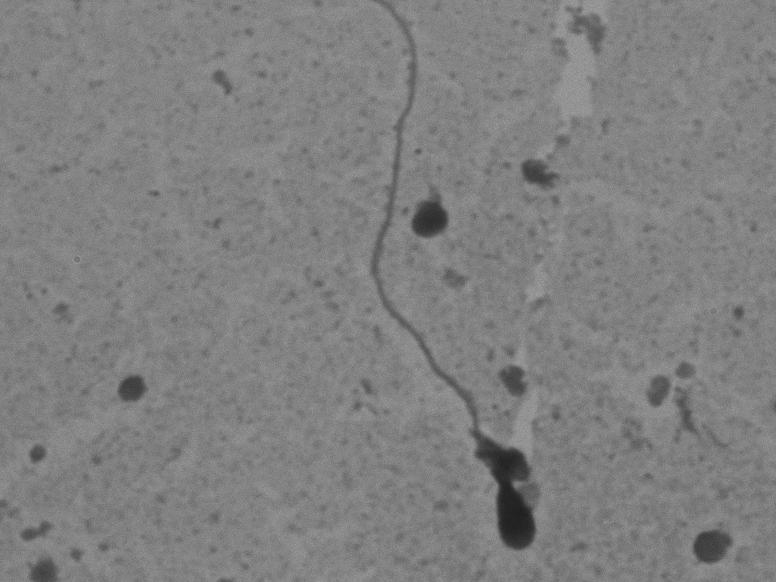Abnormal: (319, 8, 566, 560)
